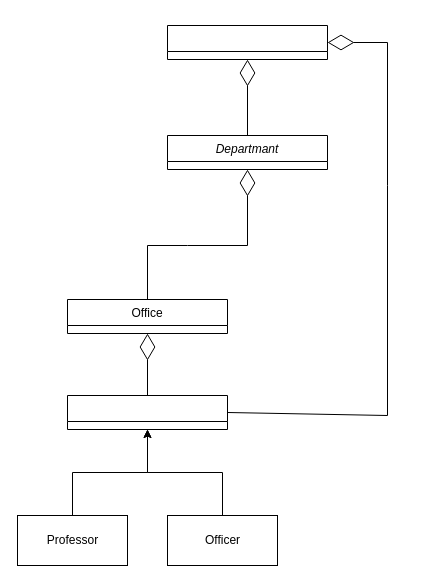
Image size: 431x583. Some labels were removed from this diagram. The centre of each missing label's shape, as x and y in pixels:
Employee: point (147, 412)
University: point (247, 42)
